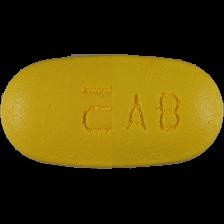43353-790: (0, 0, 224, 224)
